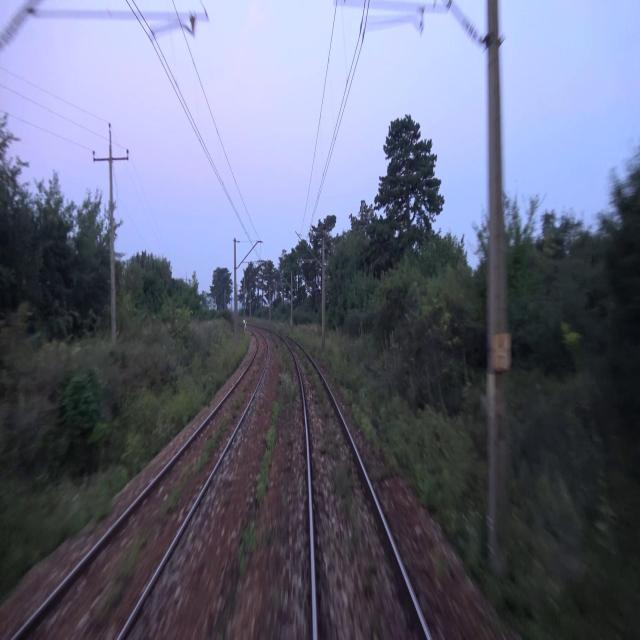rail-track: (17, 333, 266, 639), (286, 338, 428, 639)
